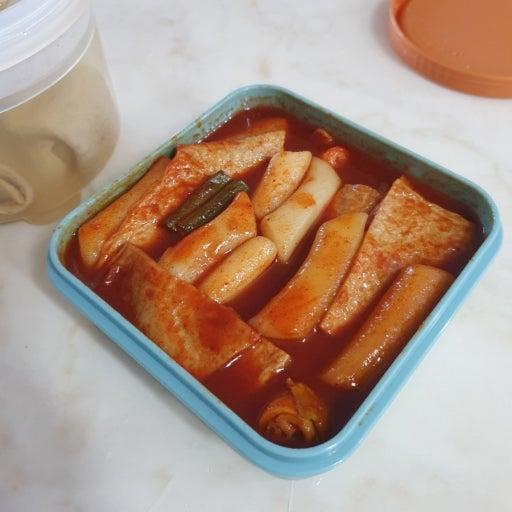Lunch Box: (48, 86, 501, 477), (0, 0, 118, 223), (388, 0, 512, 98)
